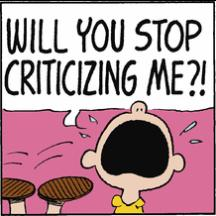charlie: (79, 97, 187, 215)
